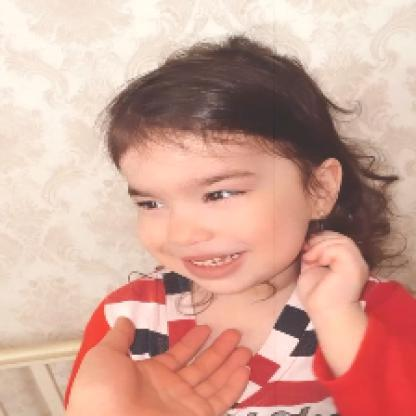child: (62, 33, 415, 416)
